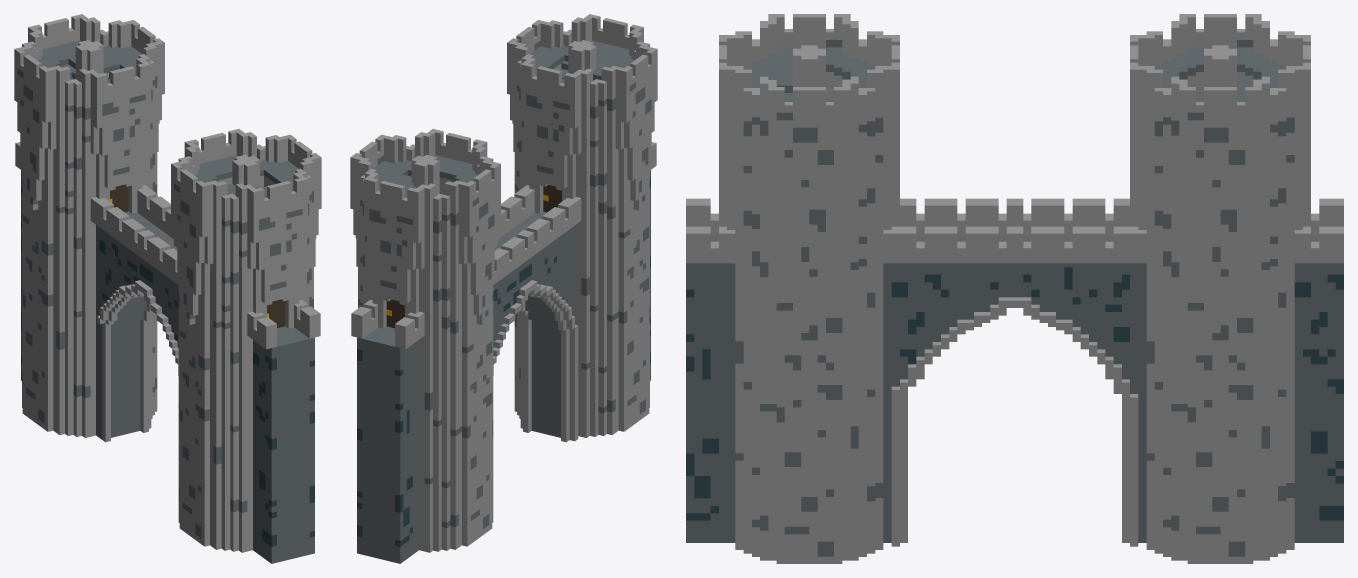
Rendered from wall_gate.obj.
3 views of the same model, side by side, from view 1: azimuth 30°, elevation 25°; view 2: azimuth 150°, elevation 25°; view 3: azimuth 270°, elevation 25° (orthographic). The views are drawn at different scales.
Bounding box in the file's own units: 2.2 × 6.4 × 8.
Materials: 1 (1 with a texture image).
